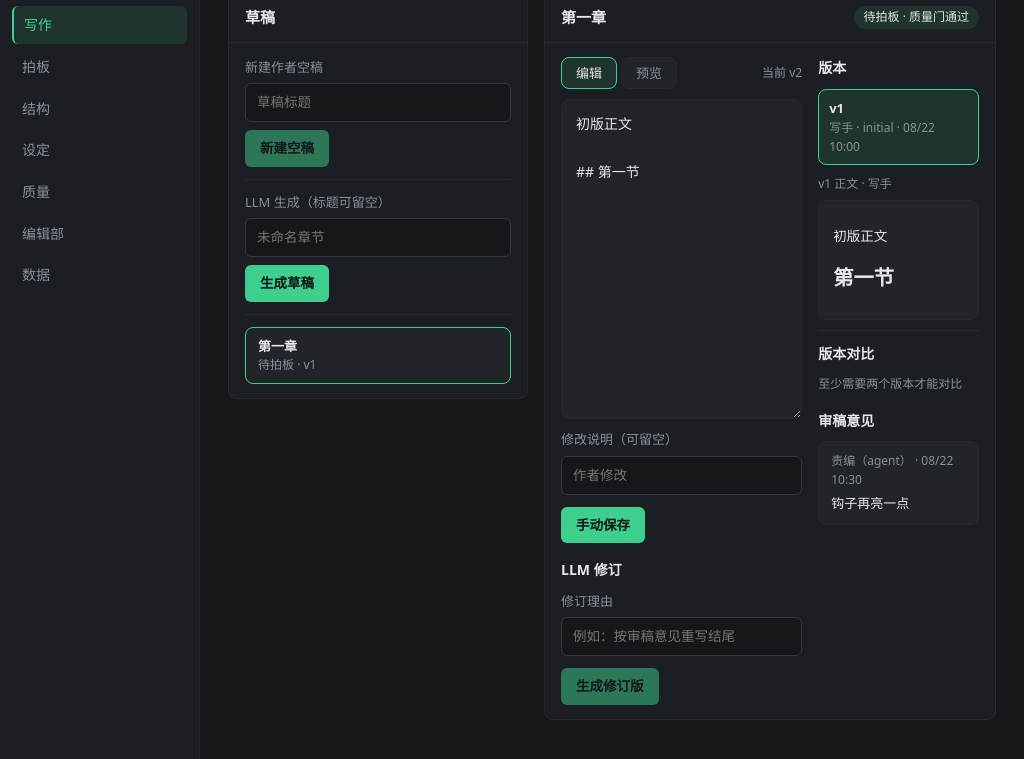
Test: writer page › revises the draft with the typed reason and refreshes the detail
The width and height of the screenshot is (1024, 759).
(page scrolled)
Expected: the heading "第一章" is shown, [561,6,606,29]
Expected: the button with test id "revise-button" is disabled, [561,668,658,705]
Type "按意见重写" into the field with test id "revise-reason-input". click: (682, 637)
box: [561,617,802,656]
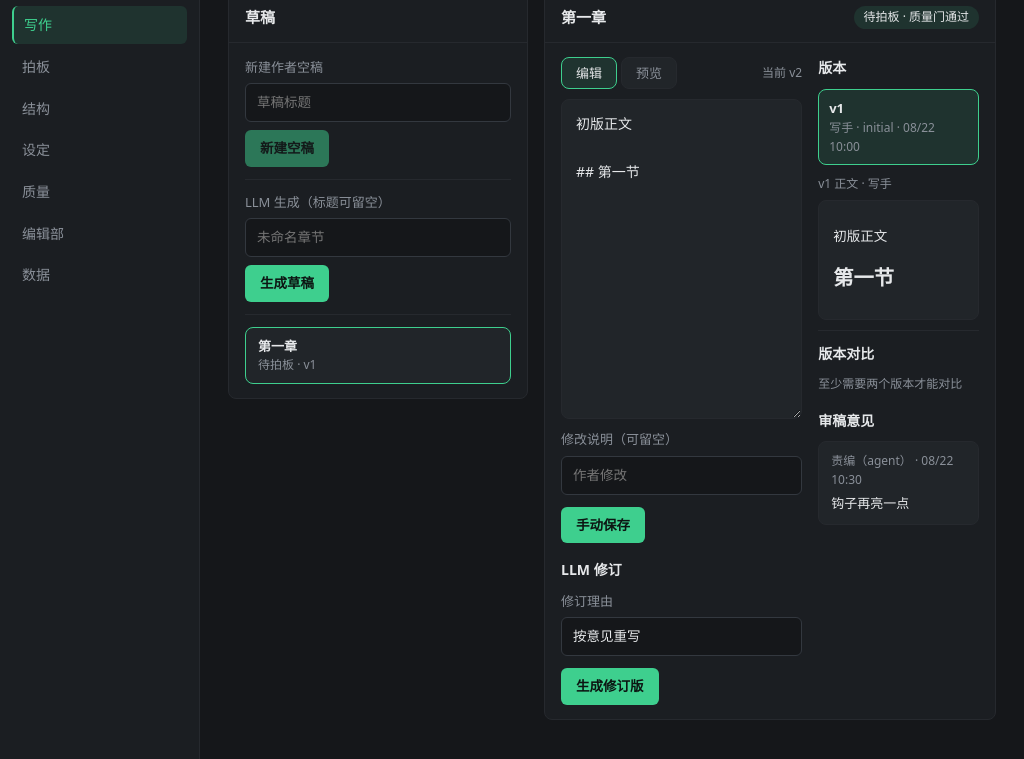
Expected: the button with test id "revise-button" is enabled
Click the button with test id "revise-button". click: (610, 687)
box: [561,668,658,705]
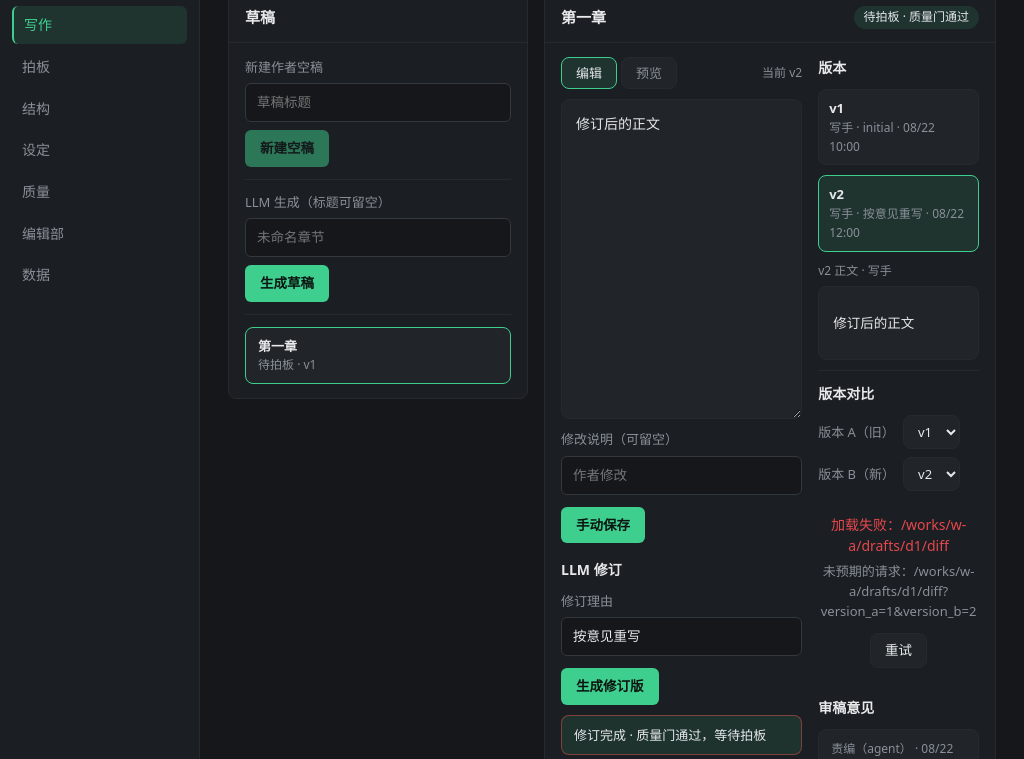
Expected: the message with test id "revise-result" reads "修订完成 · 质量门通过，等待拍板", [574,726,766,744]
Expected: the number of buttons with test id "version-item" is 2, [818,89,979,165]; [818,175,979,252]
Expected: the text box with test id "editor-textarea" holds "修订后的正文", [561,100,802,420]
